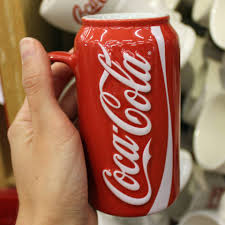coke: (94, 46, 160, 206)
